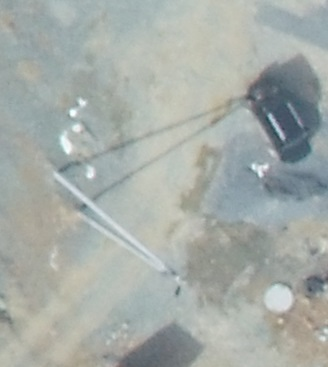opora: (50, 149, 193, 298)
